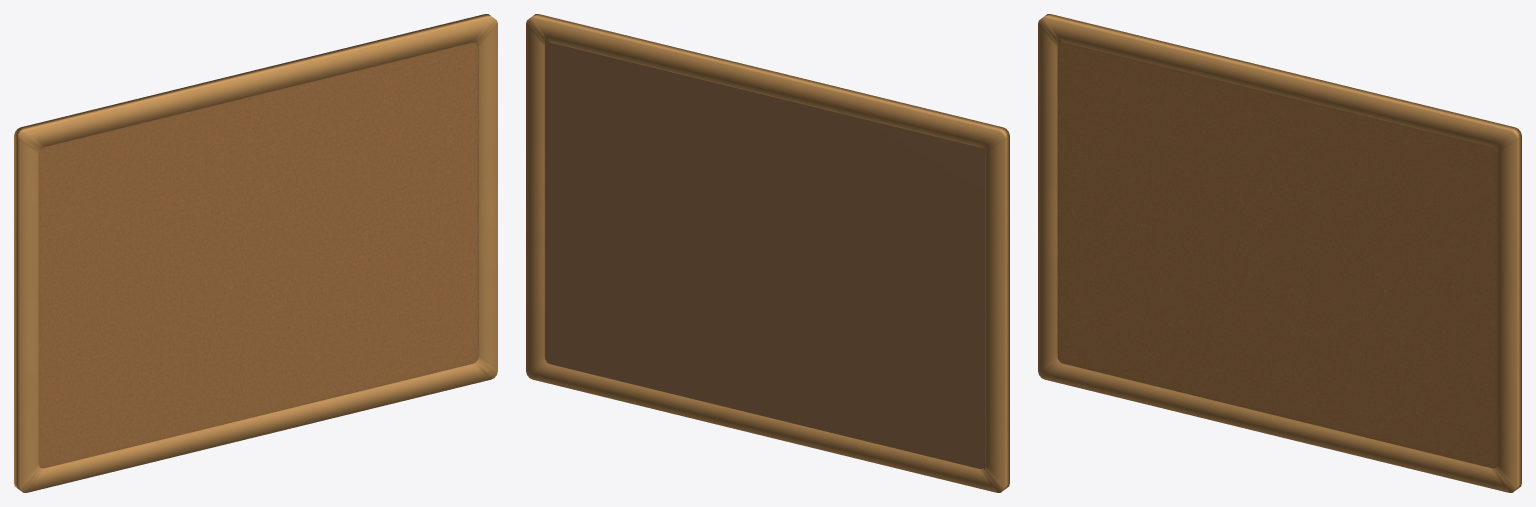
Rendered from bulletin-board.fbx.
3 views of the same model, side by side, from view 1: azimuth 30°, elevation 25°; view 2: azimuth 150°, elevation 25°; view 3: azimuth 330°, elevation 25° (orthographic).
Parts seen in each view (by area): view 1: bulletin-board; view 2: bulletin-board; view 3: bulletin-board.
Part boxes in pixels (<box>): bulletin-board: <box>14,14,497,492</box>; bulletin-board: <box>526,14,1009,492</box>; bulletin-board: <box>1038,14,1521,492</box>.
Bounding box in the file's own units: 36000 × 26000 × 800.
1 material, 1 textured.
